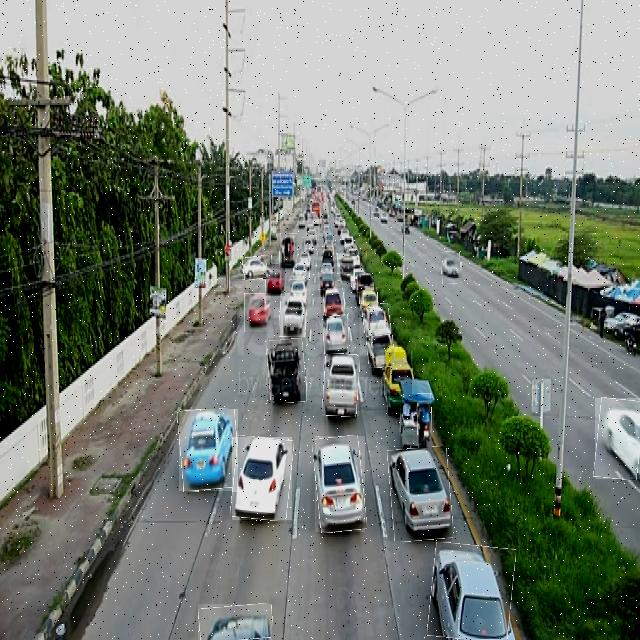Car: (429, 544, 514, 640), (389, 447, 452, 541), (232, 437, 292, 520), (179, 409, 238, 492), (315, 437, 365, 532), (595, 398, 640, 479), (198, 604, 272, 640), (384, 352, 412, 396), (244, 293, 271, 332), (324, 314, 349, 354), (363, 304, 391, 335), (242, 256, 273, 280), (442, 252, 462, 284), (266, 263, 285, 296), (323, 288, 345, 316), (290, 279, 308, 302), (360, 288, 378, 308), (293, 260, 310, 280), (357, 274, 374, 292), (318, 272, 334, 290), (302, 237, 314, 254)
Motorcycle: (418, 393, 432, 448)
Truck: (268, 338, 306, 403), (323, 354, 359, 416), (280, 294, 306, 337), (367, 330, 395, 368), (280, 233, 297, 268), (337, 253, 355, 281)
